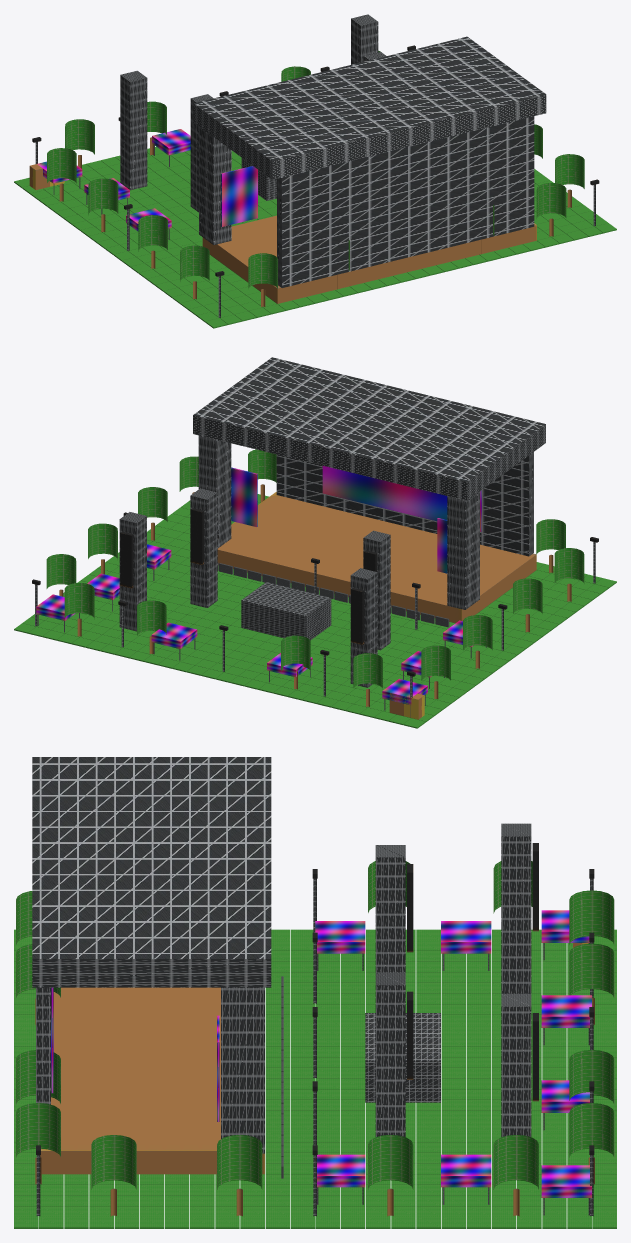
The picture shows the model from 3 angles, top to bottom: view 1: azimuth 30°, elevation 25°; view 2: azimuth 150°, elevation 25°; view 3: azimuth 270°, elevation 25°; orthographic projection. The views are drawn at different scales.
Parts seen in each view (by area): view 1: 28185_B13_Moonlight_Festival_Park; view 2: 28185_B13_Moonlight_Festival_Park; view 3: 28185_B13_Moonlight_Festival_Park.
Boxes of the visible parts, box(x1,y1,x2,y2) form: 28185_B13_Moonlight_Festival_Park: box(14, 14, 616, 328); 28185_B13_Moonlight_Festival_Park: box(14, 357, 616, 728); 28185_B13_Moonlight_Festival_Park: box(14, 757, 616, 1228).
Bounding box in the file's own units: 55.95 × 19.5 × 47.95.
Materials: 1 (1 with a texture image).
